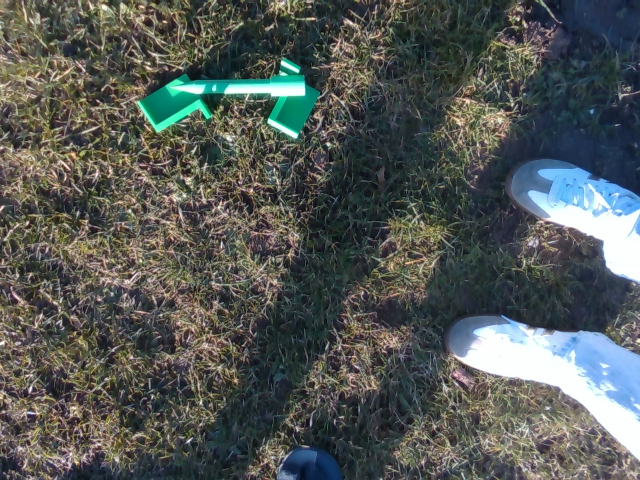Probe: (168, 75, 309, 99)
